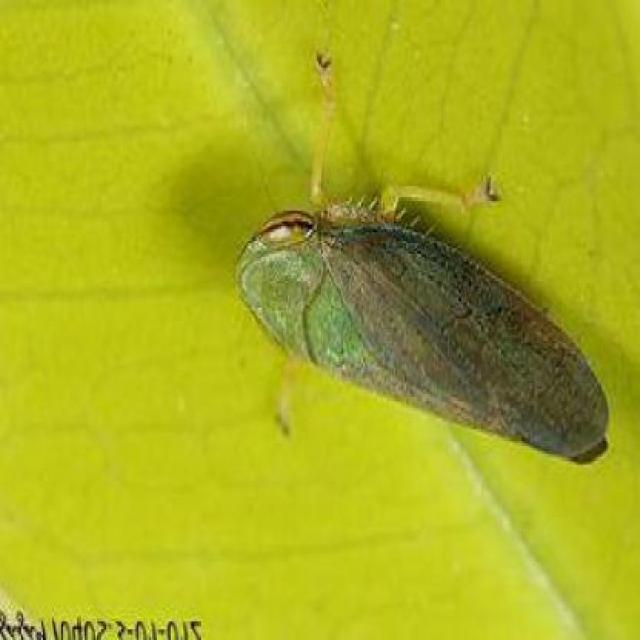green-leafhopper: (248, 208, 603, 455)
